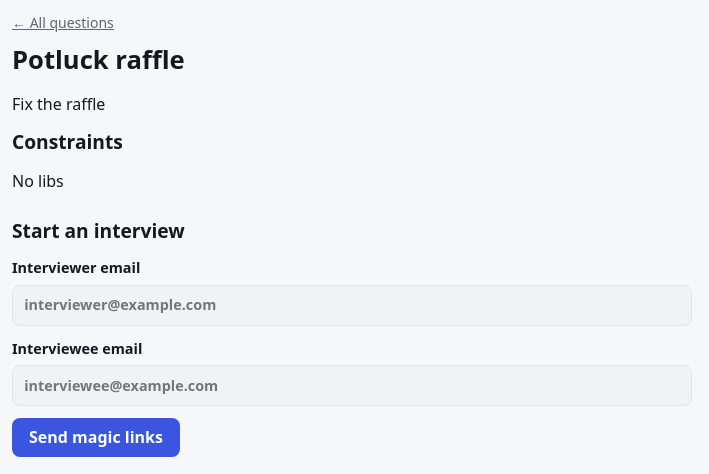
Test: QuestionPage › shows confirmation with per-email status and the direct link
Check: the heading "Potluck raffle" is shown, box x1=12 y1=42 x2=185 y2=77
In the field labelled "Interviewer email": point(352, 305) x1=12 y1=284 x2=692 y2=326, type "a@example.com"
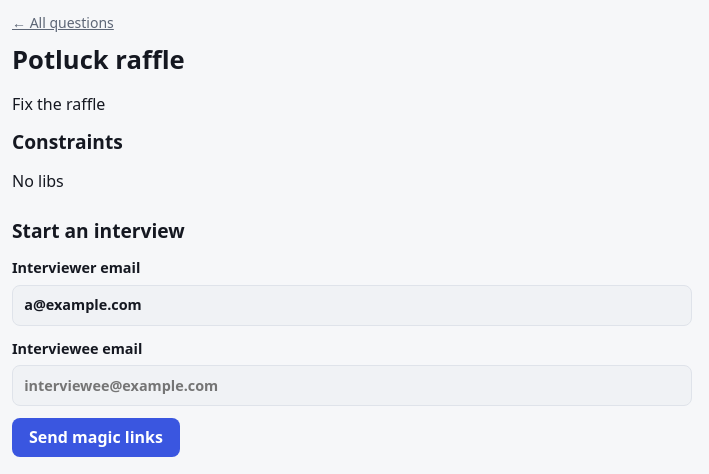
In the field labelled "Interviewee email": point(352, 386) x1=12 y1=365 x2=692 y2=406, type "b@example.com"
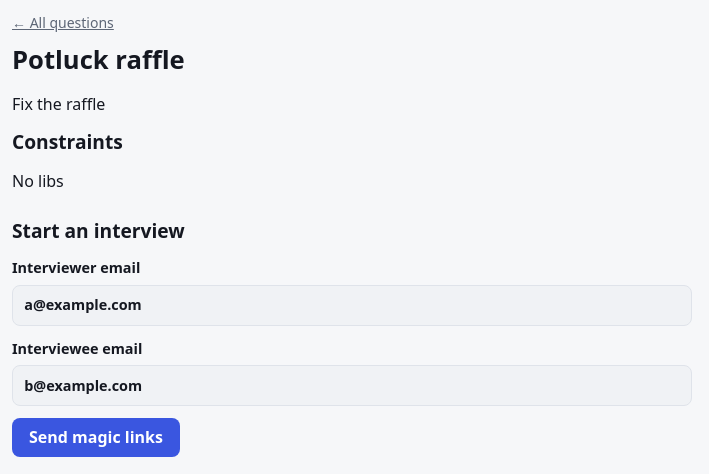
Click the button "Send magic links": point(96, 437) x1=12 y1=418 x2=180 y2=457
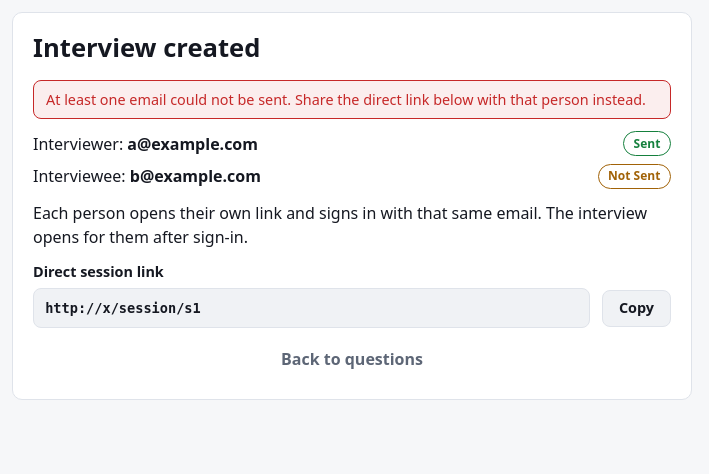
Check: the heading "Interview created" is shown, box x1=33 y1=30 x2=260 y2=65
Check: the text "sent" is shown, box x1=623 y1=131 x2=671 y2=156
Check: the text "not sent" is shown, box x1=598 y1=164 x2=671 y2=189
